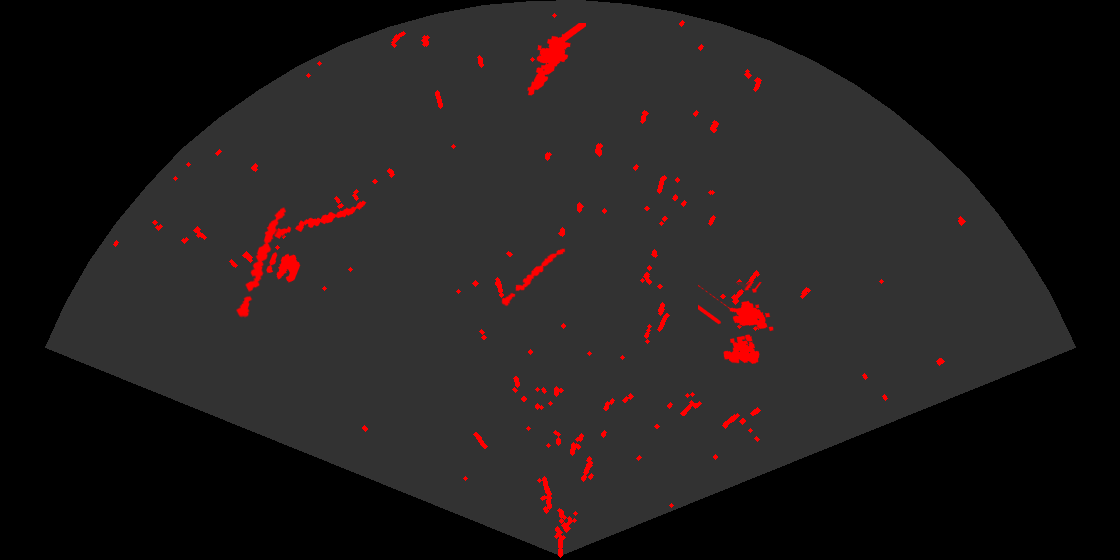ball: (265, 250, 302, 284)
cage: (698, 282, 775, 366)
chain: (234, 206, 288, 319), (500, 247, 567, 308), (271, 199, 368, 240)
frogman: (526, 23, 586, 97)
